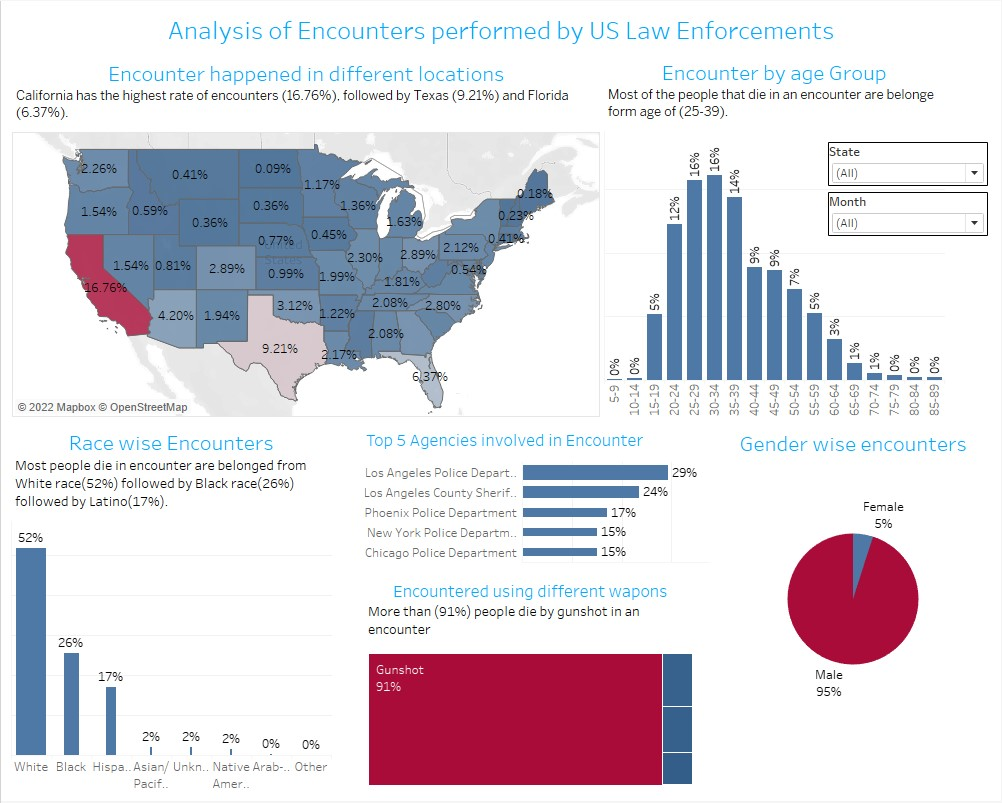

The page's visual inventory and layout, read from the dashboard file:
{"tool":"tableau","page":{"name":"Dashboard 1 (2)","canvas":[1000,800],"ordinal":1},"visuals":[{"type":"title","box":[8,8,984,42]},{"type":"worksheet","title":"1st","mark":"Automatic","box":[10,53,590,364]},{"type":"worksheet","title":"Sheet 3","mark":"Automatic","rows":["uid"],"cols":["Age (bin)"],"box":[603,53,392,363]},{"type":"filter","title":"3rd","param":"[federated.1w5hjdd01pusio10wbju100glqjz].[none:state:nk]","box":[828,106,160,44]},{"type":"filter","title":"Sheet 4","param":"[federated.1w5hjdd01pusio10wbju100glqjz].[none:month:nk]","box":[829,153,160,44]},{"type":"worksheet","title":"3rd","mark":"Automatic","rows":["uid"],"cols":["raceethnicity"],"box":[10,423,344,371]},{"type":"worksheet","title":"Sheet 5","mark":"Automatic","rows":["lawenforcementagency"],"box":[361,423,347,372]},{"type":"worksheet","title":"2nd","mark":"Automatic","box":[711,423,284,373]},{"type":"worksheet","title":"Sheet 4","mark":"Pie","box":[361,609,346,185]}]}

Visuals, with their boxes in screenshot pixels (x1, y1, x2, y2), scaled from the page's 1000x800 canvas onto the 1002x803 screenshot:
title: 8:8:994:50
"1st" worksheet: 10:53:601:419
"Sheet 3" worksheet: 604:53:997:418
"3rd" filter: 830:106:990:151
"Sheet 4" filter: 831:154:991:198
"3rd" worksheet: 10:425:355:797
"Sheet 5" worksheet: 362:425:709:798
"2nd" worksheet: 712:425:997:799
"Sheet 4" worksheet (Pie marks): 362:611:708:797
